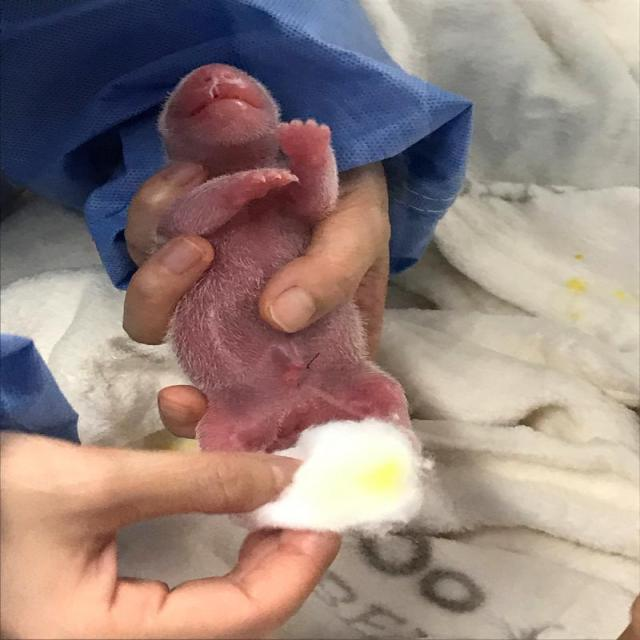panda: (150, 64, 425, 499)
